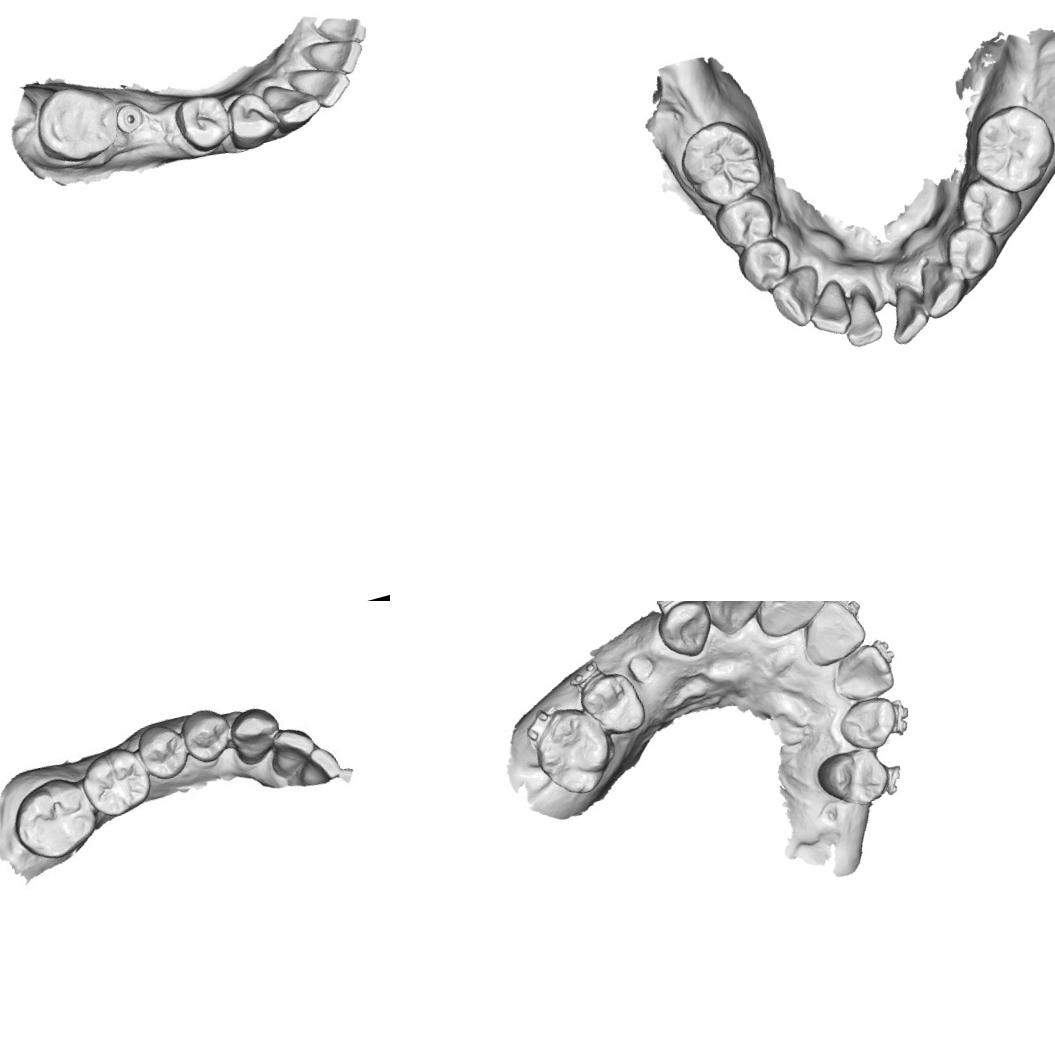canine: (764, 259, 832, 333), (834, 692, 904, 757), (222, 700, 285, 768), (259, 71, 326, 134), (651, 601, 716, 665), (914, 252, 973, 322)
implant: (111, 99, 148, 136)
incisor: (790, 601, 871, 670), (822, 637, 897, 708), (284, 55, 356, 116), (800, 274, 856, 342), (260, 720, 321, 782), (878, 280, 933, 347), (288, 737, 351, 792), (748, 601, 829, 643), (306, 30, 368, 82), (835, 287, 885, 350), (700, 601, 770, 638), (317, 10, 370, 52)
molar: (670, 110, 771, 215), (960, 94, 1055, 202), (25, 74, 126, 171), (3, 770, 102, 867), (528, 701, 621, 804), (75, 739, 158, 822)
premolar: (810, 740, 890, 815), (950, 168, 1028, 243), (575, 666, 649, 744), (174, 700, 242, 770), (170, 88, 236, 158), (219, 83, 284, 154), (709, 190, 780, 254), (132, 714, 196, 784), (939, 218, 1004, 284), (732, 233, 798, 297)
